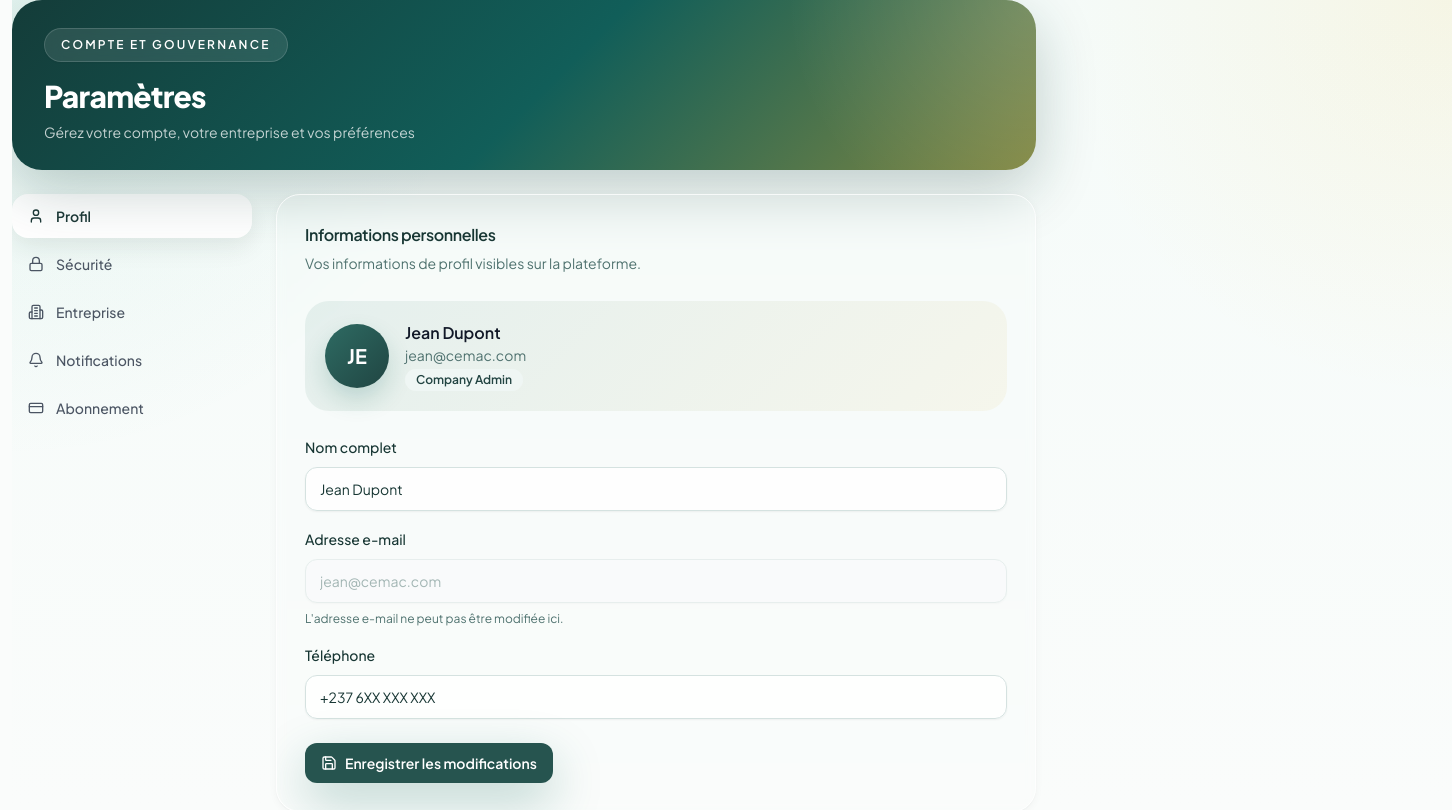
Test: SettingsPage — profile tab › validates empty name before saving
Clear the field labelled "Nom complet" at x=656, y=489, box [305,467,1007,511]
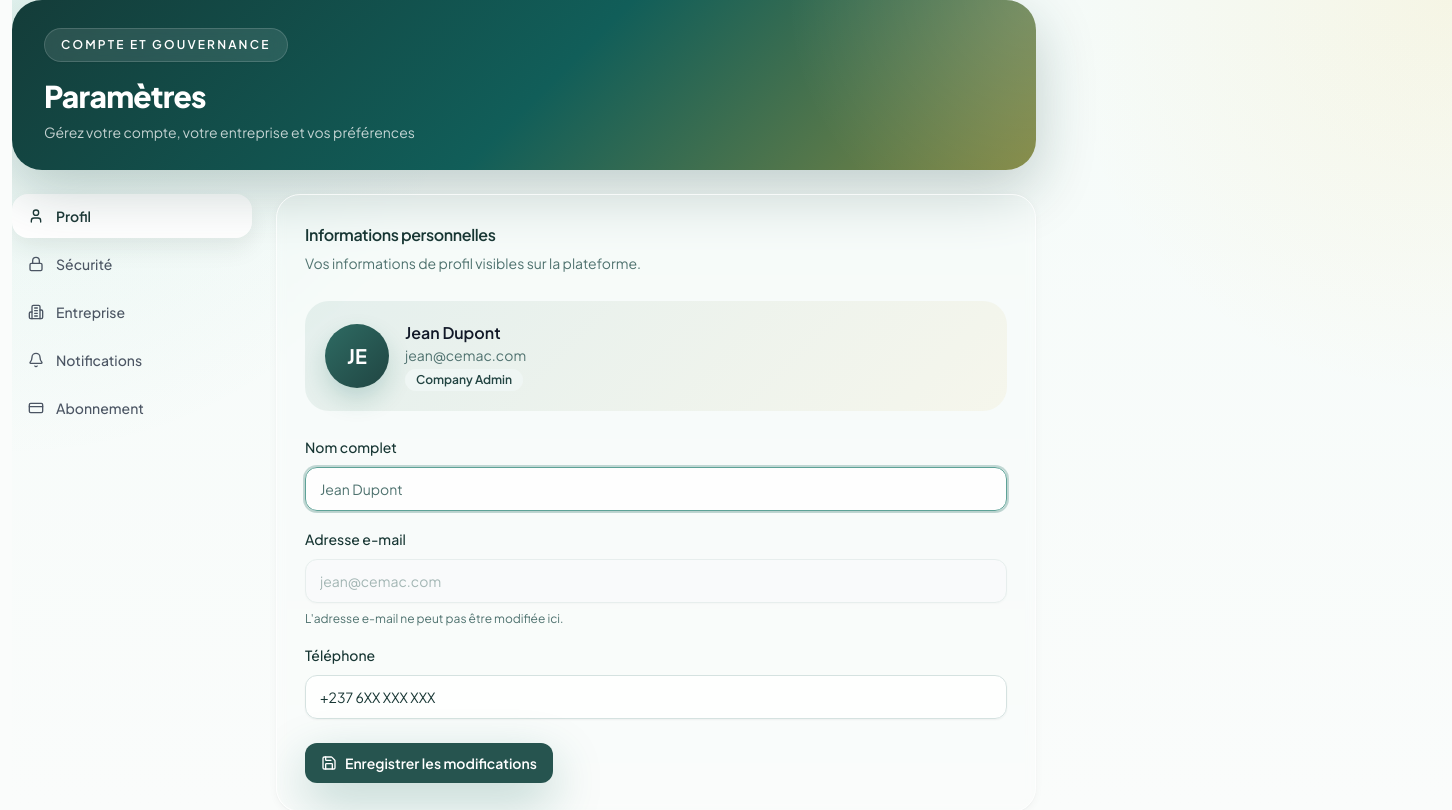
Click the button "Enregistrer les modifications" at x=429, y=763, box [305,743,553,783]
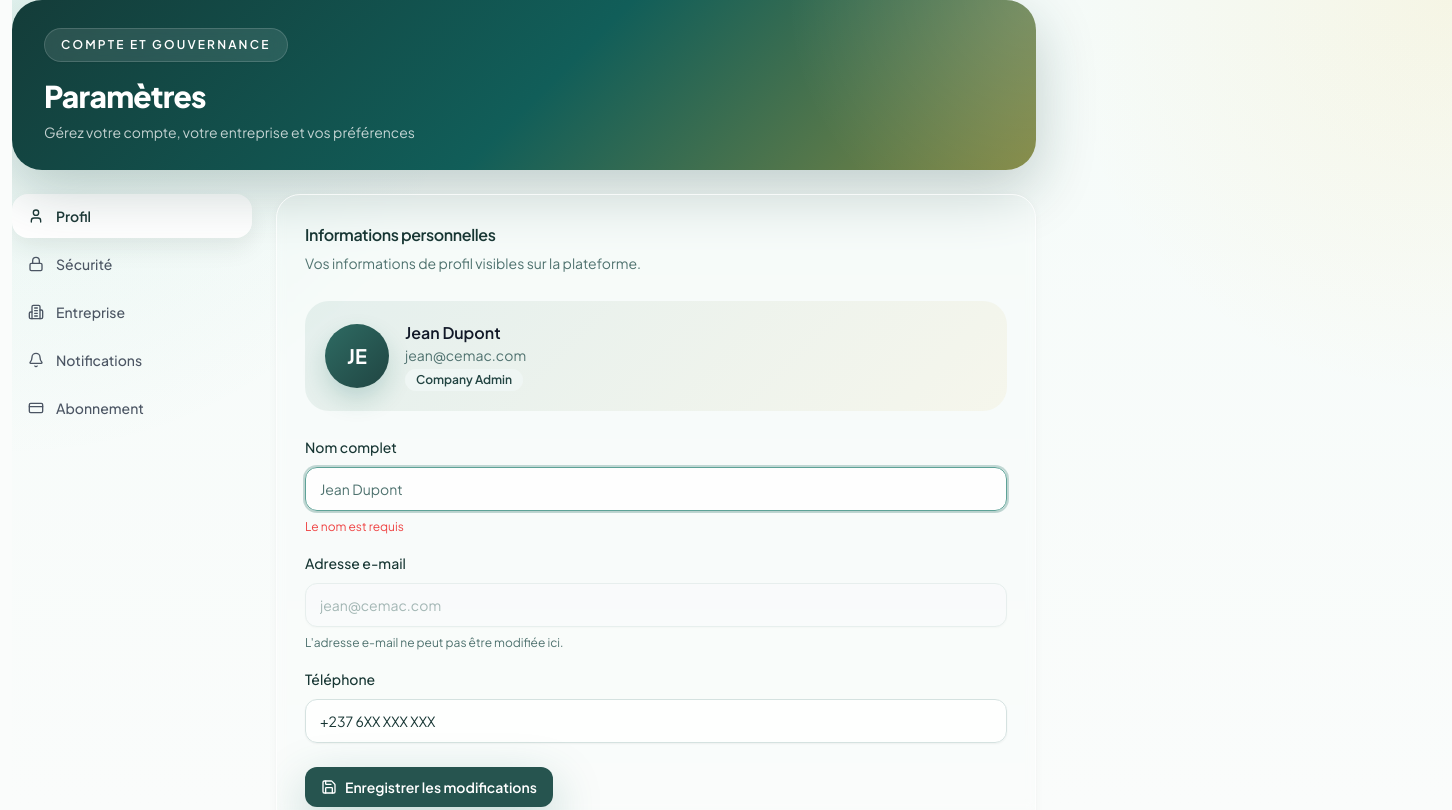
Result: the text "Le nom est requis" is shown at [305,519,404,534]
